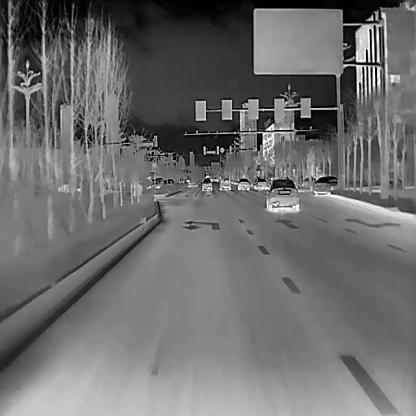car: (265, 178, 299, 210), (311, 174, 337, 195), (254, 177, 269, 190), (236, 177, 250, 190), (218, 176, 230, 190), (201, 178, 212, 190)
